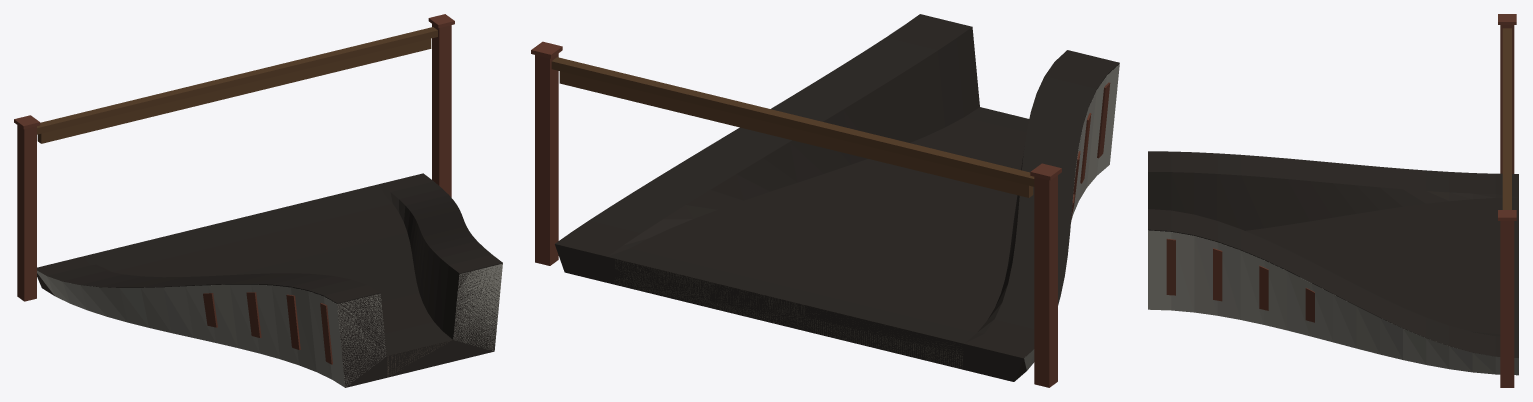
Rendered from flume_intake_16.glb.
3 views of the same model, side by side, from view 1: azimuth 30°, elevation 25°; view 2: azimuth 150°, elevation 25°; view 3: azimuth 270°, elevation 25° (orthographic). The views are drawn at different scales.
Visible parts, largest first — view 1: flume_intake_16-col-col, flume_intake_16_body; view 2: flume_intake_16-col-col, flume_intake_16_body; view 3: flume_intake_16-col-col, flume_intake_16_body.
Boxes of the visible parts, bbox=[...] form: flume_intake_16-col-col: bbox=[37, 173, 502, 387]; flume_intake_16_body: bbox=[14, 14, 502, 387]; flume_intake_16-col-col: bbox=[555, 14, 1119, 381]; flume_intake_16_body: bbox=[531, 41, 1119, 387]; flume_intake_16-col-col: bbox=[1148, 151, 1518, 375]; flume_intake_16_body: bbox=[1148, 14, 1518, 387].
Size of the model in its own units: 20.8 by 8.15 by 16.
